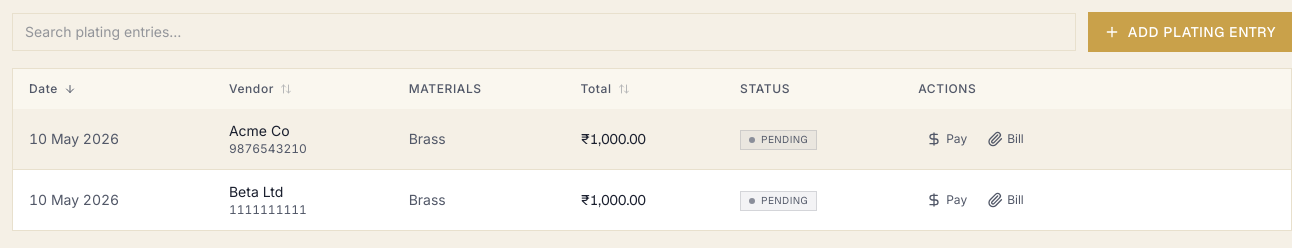
it: PlatingTable — render states › filters rows via the search input
Expected: the text "Acme Co" is shown, [229, 122, 290, 139]
Expected: the text "Beta Ltd" is shown, [229, 183, 283, 200]
Type "beta" into the search field with placeholder "Search plating entries…" at [544, 32], box [12, 13, 1076, 51]
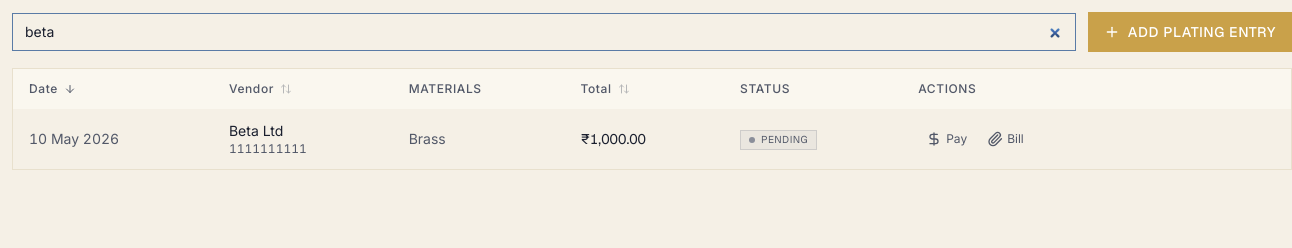
Expected: the text "Beta Ltd" is shown, [229, 122, 283, 139]
Expected: the text "Acme Co" is gone
